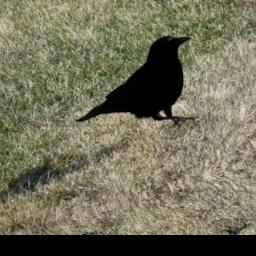Crow: (53, 25, 231, 151)
